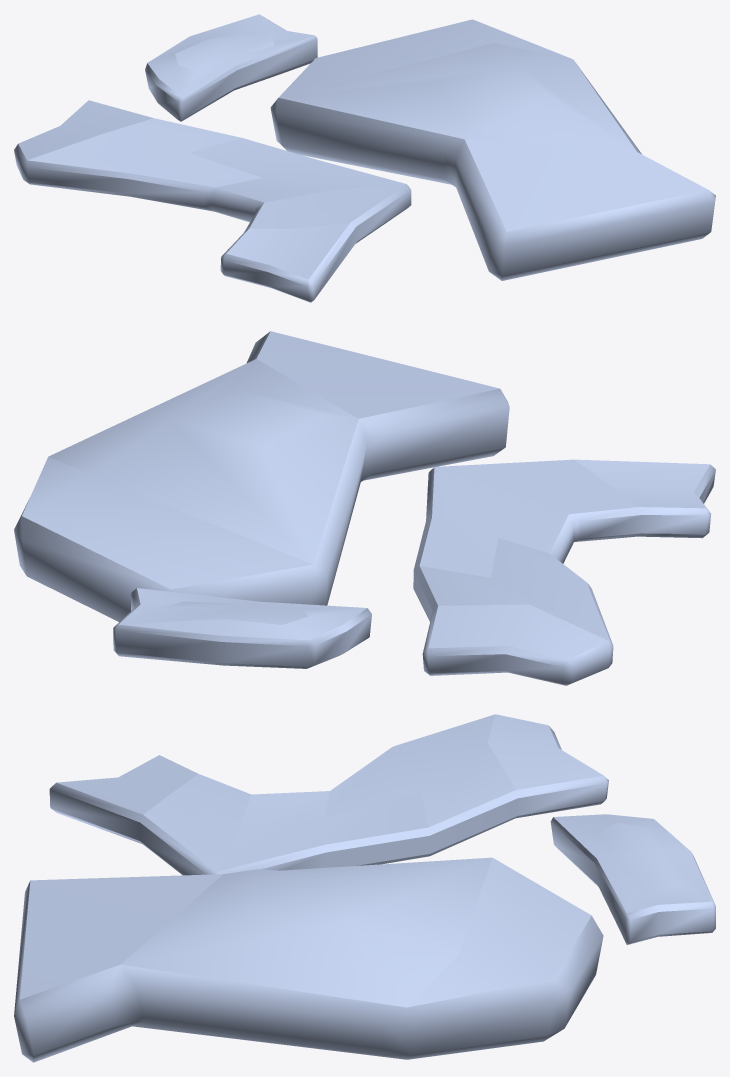
The model's file is floe13.fbx.
3 renders of one model, top to bottom at view 1: azimuth 30°, elevation 25°; view 2: azimuth 150°, elevation 25°; view 3: azimuth 270°, elevation 25°, orthographic. The views are drawn at different scales.
Visible parts, largest first — view 1: Plane.025, Plane.024, Plane.026; view 2: Plane.025, Plane.024, Plane.026; view 3: Plane.025, Plane.024, Plane.026.
Part boxes in pixels (bbox=[...]): Plane.025: bbox=[270, 19, 715, 280]; Plane.024: bbox=[14, 100, 411, 302]; Plane.026: bbox=[145, 14, 317, 121]; Plane.025: bbox=[14, 331, 509, 621]; Plane.024: bbox=[413, 459, 715, 685]; Plane.026: bbox=[113, 588, 371, 668]; Plane.025: bbox=[14, 857, 603, 1062]; Plane.024: bbox=[49, 714, 608, 875]; Plane.026: bbox=[550, 814, 715, 944].
Bounding box in the file's own units: 369 × 65.47 × 362.
